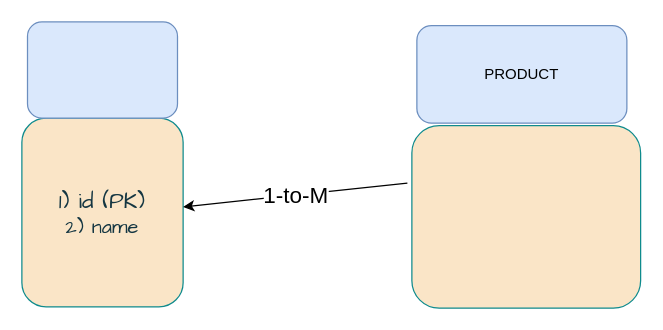
Image size: 663x330. Some labels were removed from this diagram. The shapes that lost their labels are listed below. From the top down, each one's box as (x1, y1, x2, y2) in pixels, then its label:
(26, 21, 178, 118): CATEGORY
(411, 124, 641, 308): 1) id (P.K) 2) name 3) price 4) category_id
